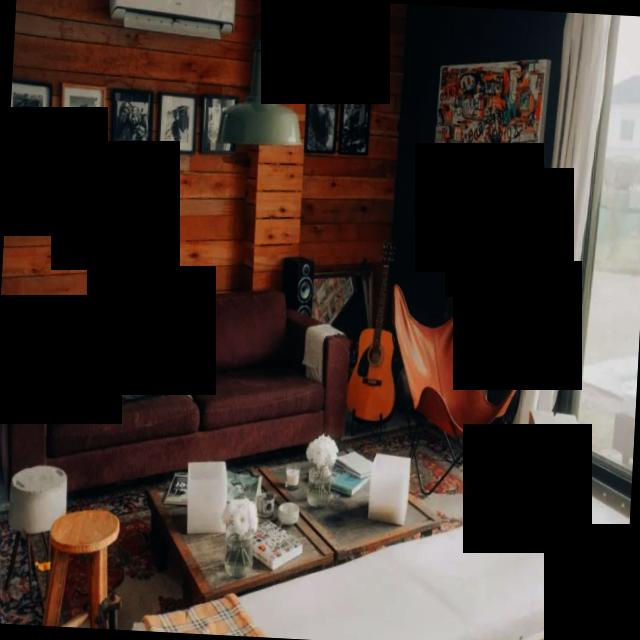vintage sofa: (0, 245, 357, 482)
